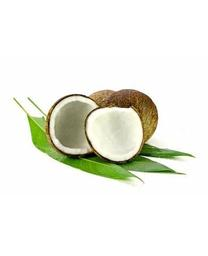coconut: (45, 94, 105, 159), (83, 104, 144, 165), (106, 88, 159, 149)
